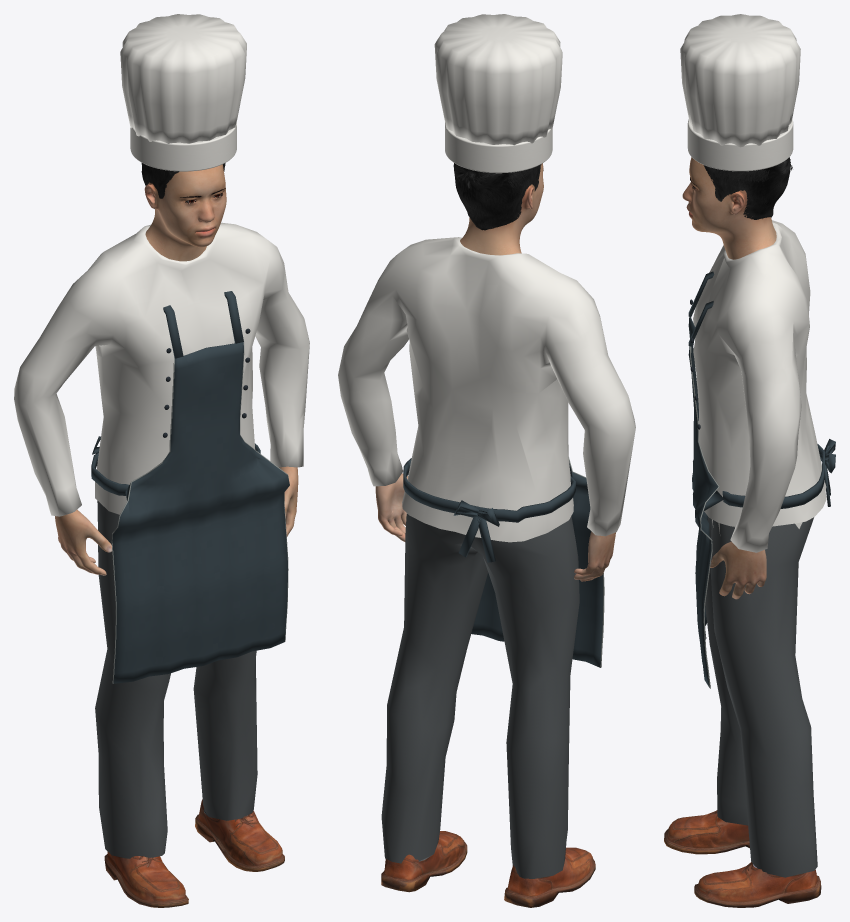
File: chef.glb
3 views of the same model, side by side, from view 1: azimuth 30°, elevation 25°; view 2: azimuth 150°, elevation 25°; view 3: azimuth 270°, elevation 25° (orthographic).
Visible parts, largest first — view 1: male_casualsuit02, Chef | continuous bib and knee-length apron, Chef | tall pleated fabric toque, Sam | anatomical body, shoes01, Chef | fitted toque cloth band, short01; view 2: male_casualsuit02, Chef | tall pleated fabric toque, shoes01, Sam | anatomical body, Chef | continuous bib and knee-length apron, short01, Chef | fitted toque cloth band, Chef | continuous apron waist tie; view 3: male_casualsuit02, Chef | tall pleated fabric toque, shoes01, Sam | anatomical body, Chef | continuous bib and knee-length apron, Chef | fitted toque cloth band, short01, Chef | continuous apron waist tie, Chef | sewn apron side seam.001.
Part boxes in pixels (box(x1,y1,x2,y2)): male_casualsuit02: box(14, 222, 309, 858); Chef | continuous bib and knee-length apron: box(112, 342, 289, 683); Chef | tall pleated fabric toque: box(120, 14, 246, 143); Sam | anatomical body: box(55, 164, 298, 575); shoes01: box(104, 799, 284, 907); Chef | fitted toque cloth band: box(130, 122, 236, 171); short01: box(141, 163, 225, 208); male_casualsuit02: box(338, 237, 635, 878); Chef | tall pleated fabric toque: box(434, 14, 562, 145); shoes01: box(381, 831, 595, 907); Sam | anatomical body: box(375, 163, 615, 581); Chef | continuous bib and knee-length apron: box(471, 463, 603, 667); short01: box(453, 163, 541, 230); Chef | fitted toque cloth band: box(445, 122, 552, 173); Chef | continuous apron waist tie: box(403, 458, 575, 522); male_casualsuit02: box(693, 220, 826, 877); Chef | tall pleated fabric toque: box(680, 14, 800, 147); shoes01: box(664, 810, 821, 907); Sam | anatomical body: box(682, 157, 776, 599); Chef | continuous bib and knee-length apron: box(688, 317, 723, 687); Chef | fitted toque cloth band: box(687, 119, 793, 171); short01: box(703, 157, 792, 219); Chef | continuous apron waist tie: box(722, 444, 825, 508); Chef | sewn apron side seam.001: box(690, 346, 719, 688).
Bounding box in the file's own units: 0.7211 × 2.01 × 0.3765.
13 materials, 13 textured.
